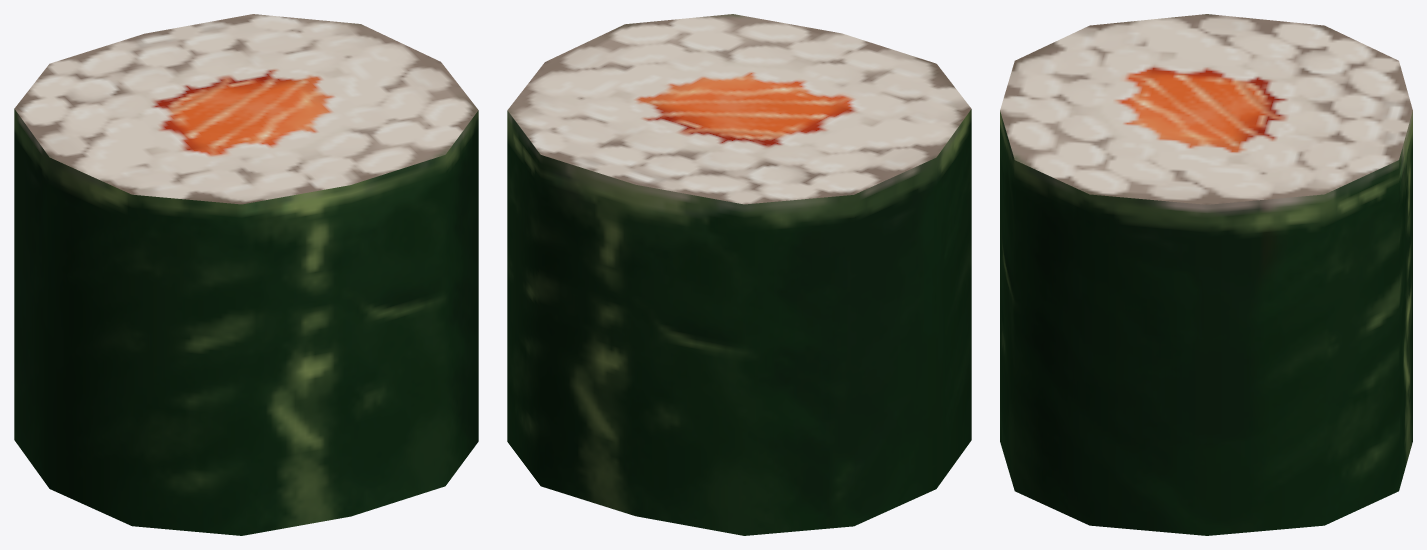
The model's file is SushisRoundsalmon.fbx.
3 views of the same model, side by side, from view 1: azimuth 30°, elevation 25°; view 2: azimuth 150°, elevation 25°; view 3: azimuth 270°, elevation 25° (orthographic).
Parts seen in each view (by area): view 1: SushisRoundsalmon; view 2: SushisRoundsalmon; view 3: SushisRoundsalmon.
Boxes of the visible parts, x1,y1,x2,y2 form: SushisRoundsalmon: [14, 14, 478, 535]; SushisRoundsalmon: [507, 14, 971, 535]; SushisRoundsalmon: [1000, 14, 1412, 535].
Size of the model in its own units: 16.41 by 13.28 by 15.
